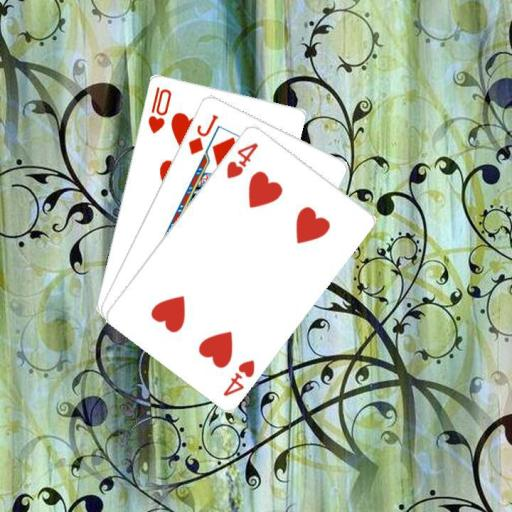10H: (144, 84, 173, 135)
4H: (220, 356, 257, 398), (223, 139, 260, 180)
JD: (184, 111, 220, 156)
